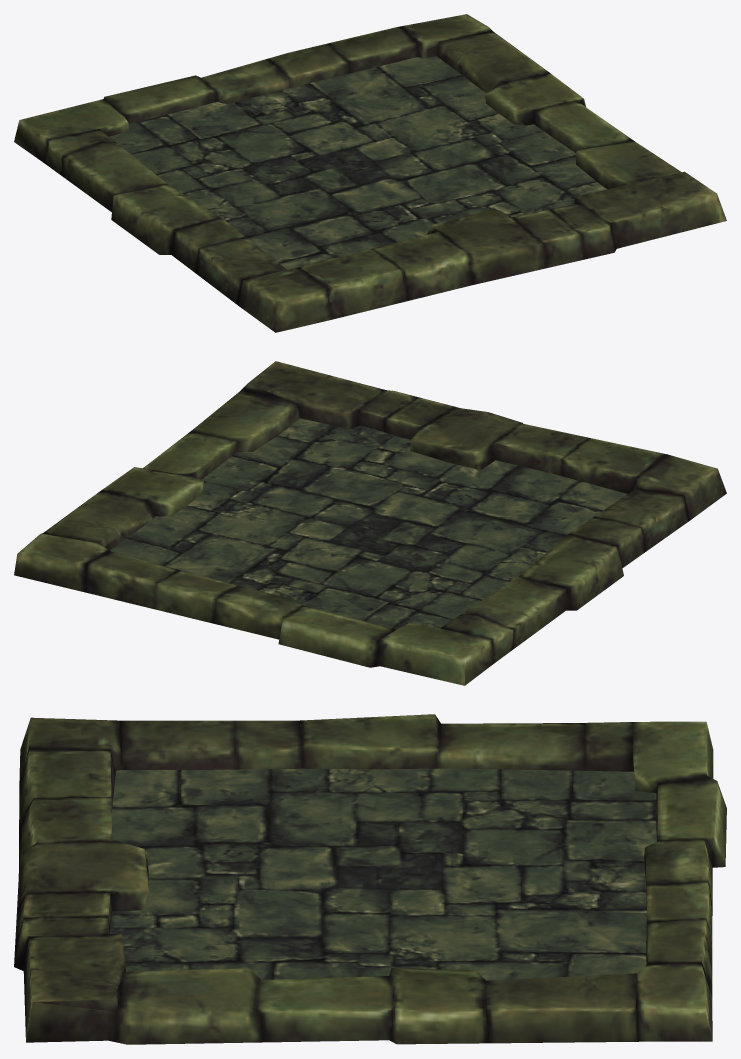
File: Ground.fbx
The picture shows the model from 3 angles, top to bottom: view 1: azimuth 30°, elevation 25°; view 2: azimuth 150°, elevation 25°; view 3: azimuth 270°, elevation 25°; orthographic projection. The views are drawn at different scales.
Parts seen in each view (by area): view 1: polySurface2478; view 2: polySurface2478; view 3: polySurface2478.
Part boxes in pixels (<box>): polySurface2478: <box>14,14,726,332</box>; polySurface2478: <box>14,361,726,685</box>; polySurface2478: <box>14,714,726,1044</box>.
Bounding box in the file's own units: 5.16 × 0.3157 × 5.18.
